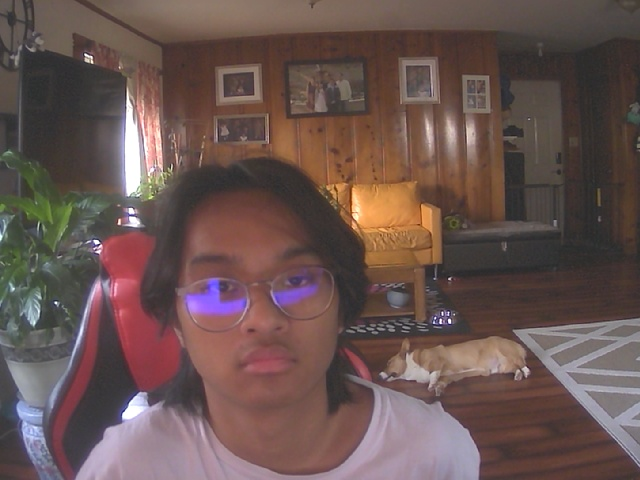neutral: (164, 162, 360, 413)
